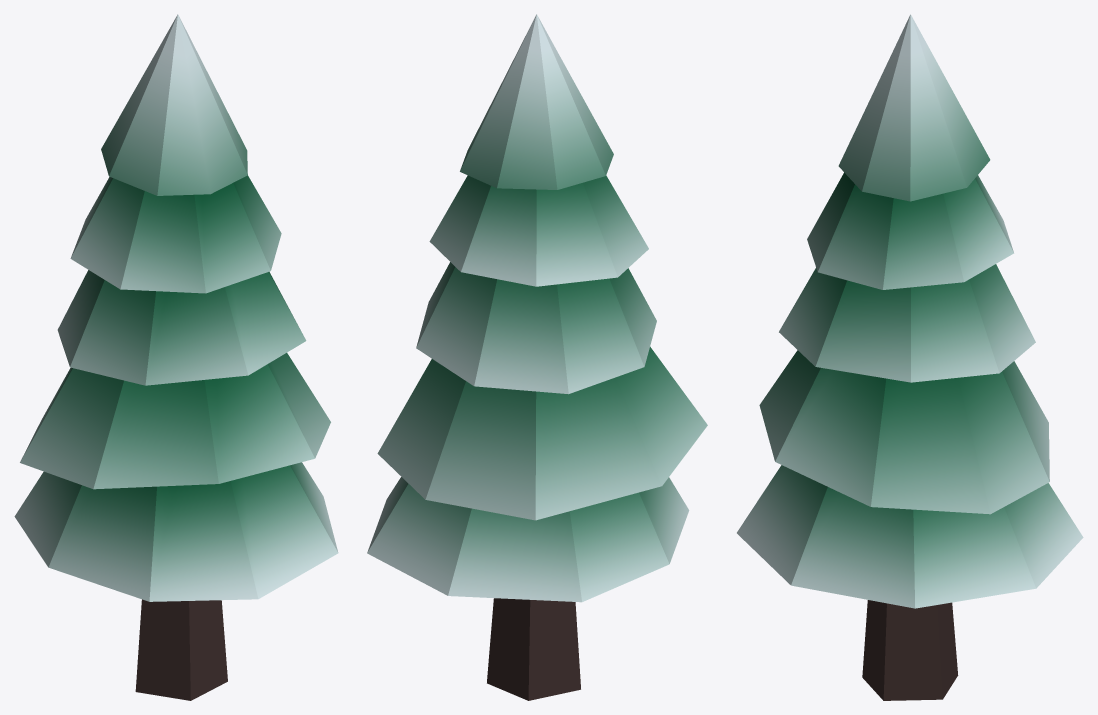
The model's file is SM_IP_PineTree_02.fbx.
The picture shows the model from 3 angles, left to right: view 1: azimuth 30°, elevation 25°; view 2: azimuth 150°, elevation 25°; view 3: azimuth 270°, elevation 25°; orthographic projection.
Visible parts, largest first — view 1: Pine_Tree_2; view 2: Pine_Tree_2; view 3: Pine_Tree_2.
Part boxes in pixels (x1,y1,x2,y2): Pine_Tree_2: [14, 14, 338, 700]; Pine_Tree_2: [367, 14, 707, 700]; Pine_Tree_2: [737, 14, 1083, 700].
Bounding box in the file's own units: 0.6475 × 1.42 × 0.669.
